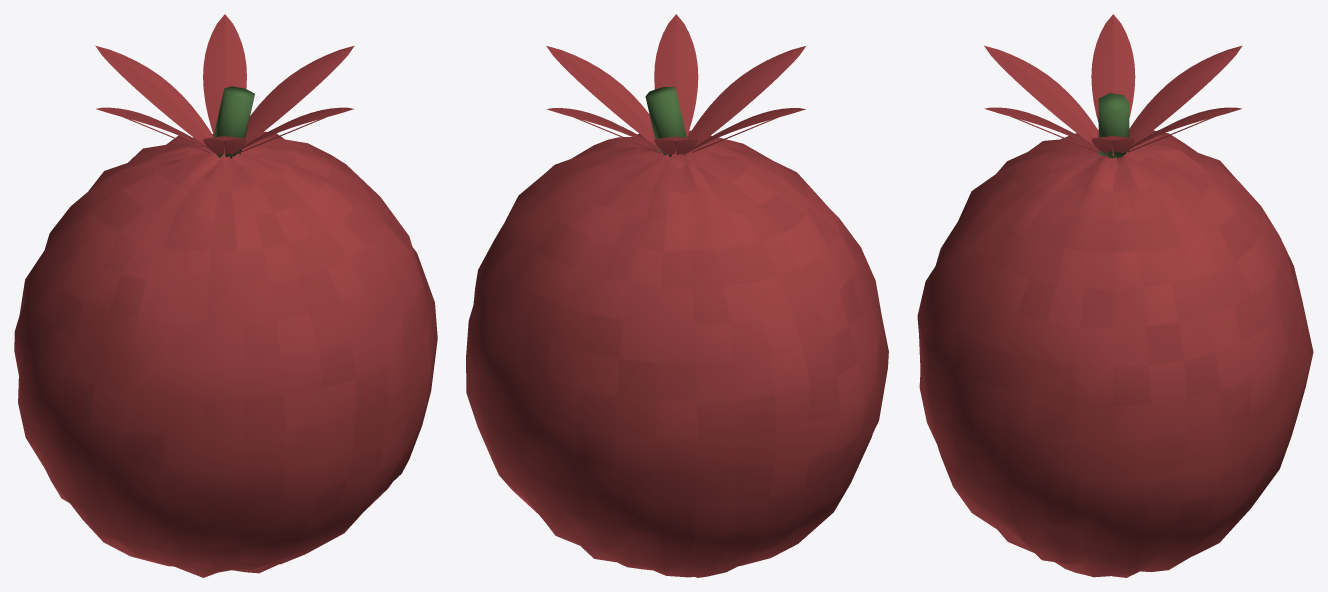
The model's file is Pomegranate.glb.
3 views of the same model, side by side, from view 1: azimuth 30°, elevation 25°; view 2: azimuth 150°, elevation 25°; view 3: azimuth 270°, elevation 25° (orthographic).
Parts seen in each view (by area): view 1: Pomegranate; view 2: Pomegranate; view 3: Pomegranate.
Boxes of the visible parts, left/top/right/bottom form: Pomegranate: left=14, top=14, right=437, bottom=577; Pomegranate: left=466, top=14, right=888, bottom=577; Pomegranate: left=917, top=14, right=1313, bottom=577.
Size of what is drawn, in the model's own units: 0.0748 by 0.0924 by 0.0686.
